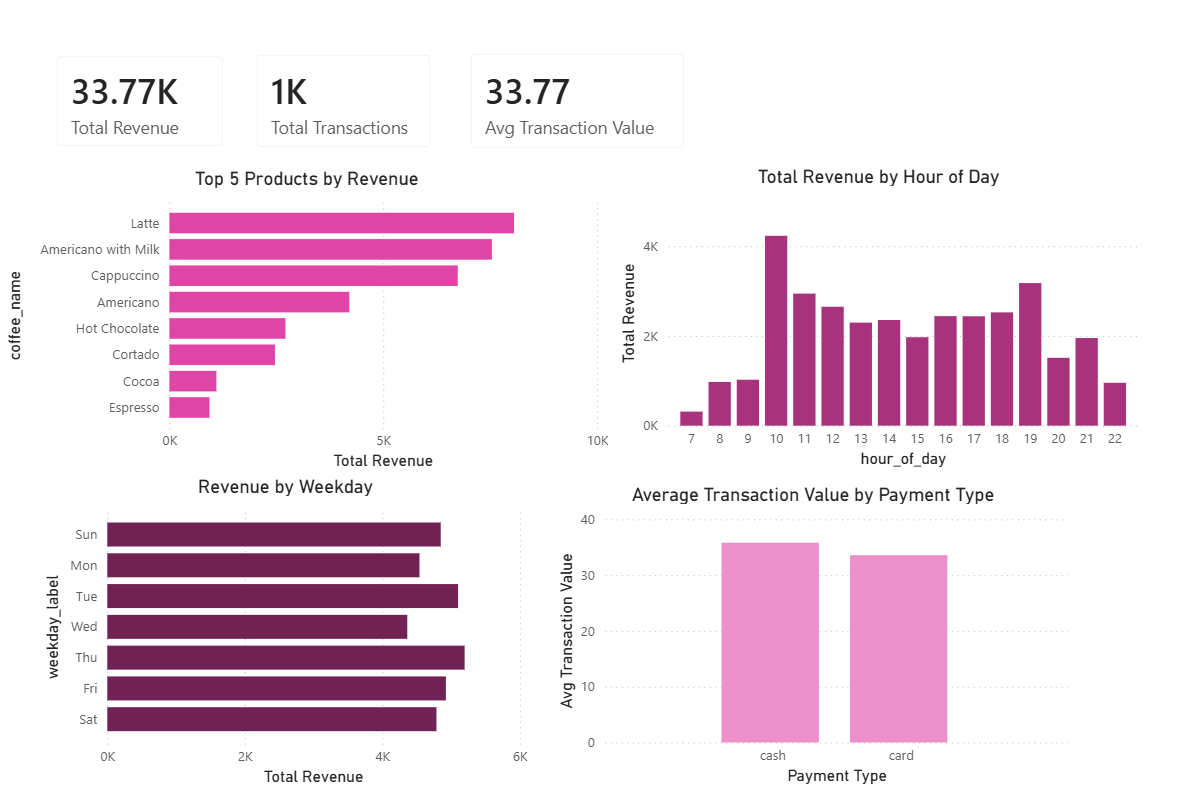

The dashboard page shown, as its layout file describes it:
{"tool":"powerbi","page":{"name":"Page 1","canvas":[1280,720],"ordinal":0},"visuals":[{"type":"cardVisual","fields":{"Data":["coffee_sales_powerbi.Total Revenue"]},"box":[34.4,35.6,185.6,116.7],"z":0},{"type":"cardVisual","fields":{"Data":["coffee_sales_powerbi.Total Transactions"]},"box":[216.7,34.4,192.2,118.9],"z":1000},{"type":"cardVisual","fields":{"Data":["coffee_sales_powerbi.Avg Transaction Value"]},"box":[411.1,33.3,228.9,120],"z":2000},{"type":"clusteredBarChart","title":"Top 5 Products by Revenue","fields":{"Category":["coffee_sales_powerbi.coffee_name"],"Y":["coffee_sales_powerbi.Total Revenue"]},"box":[0,153.3,557.8,280],"z":3000},{"type":"clusteredColumnChart","title":"Total Revenue by Hour of Day","fields":{"Category":["coffee_sales_powerbi.hour_of_day"],"Y":["coffee_sales_powerbi.Total Revenue"]},"box":[558,152,481,280],"z":4000},{"type":"clusteredBarChart","title":"Revenue by Weekday","fields":{"Y":["coffee_sales_powerbi.Total Revenue"],"Category":["coffee_sales_powerbi.weekday_label"]},"box":[34.4,433.3,450,286.7],"z":5000},{"type":"clusteredColumnChart","title":"Avg Transaction Value by Cash Type","fields":{"Category":["coffee_sales_powerbi.cash_type"],"Y":["coffee_sales_powerbi.Avg Transaction Value"]},"box":[502.2,441.1,474.4,278.9],"z":6000}]}

Visuals, with their boxes on the page's 1280x720 design canvas (x1, y1, x2, y2). These are canvas units, not pixel positions in the 1180x788 screenshot, which may show the page scaled, cropped or inside an application window:
cardVisual - coffee_sales_powerbi.Total Revenue: 34, 36, 220, 152
cardVisual - coffee_sales_powerbi.Total Transactions: 217, 34, 409, 153
cardVisual - coffee_sales_powerbi.Avg Transaction Value: 411, 33, 640, 153
"Top 5 Products by Revenue" clusteredBarChart: 0, 153, 558, 433
"Total Revenue by Hour of Day" clusteredColumnChart: 558, 152, 1039, 432
"Revenue by Weekday" clusteredBarChart: 34, 433, 484, 720
"Avg Transaction Value by Cash Type" clusteredColumnChart: 502, 441, 977, 720
